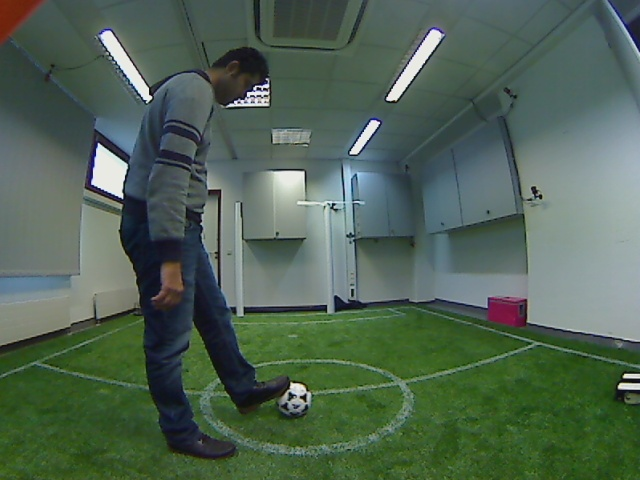ball: (273, 378, 314, 420)
